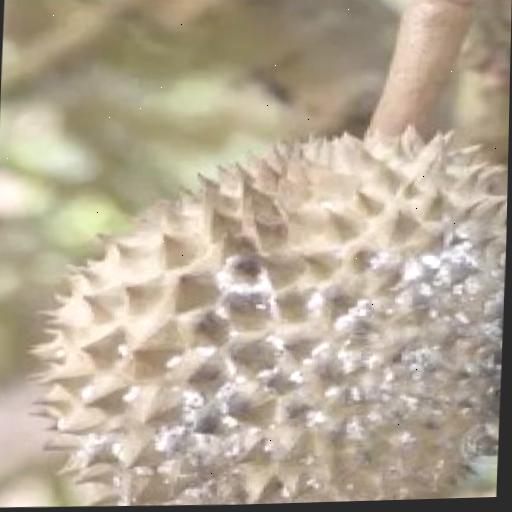mold: (13, 0, 512, 511), (224, 321, 272, 369)
